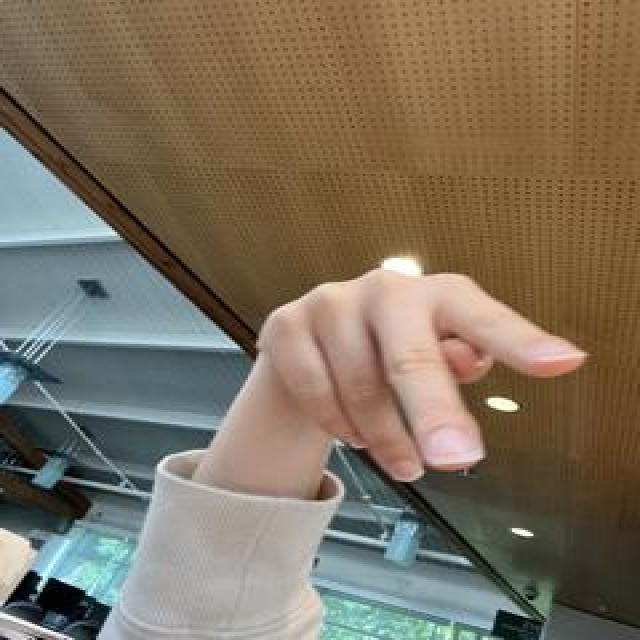P: (235, 264, 594, 488)
